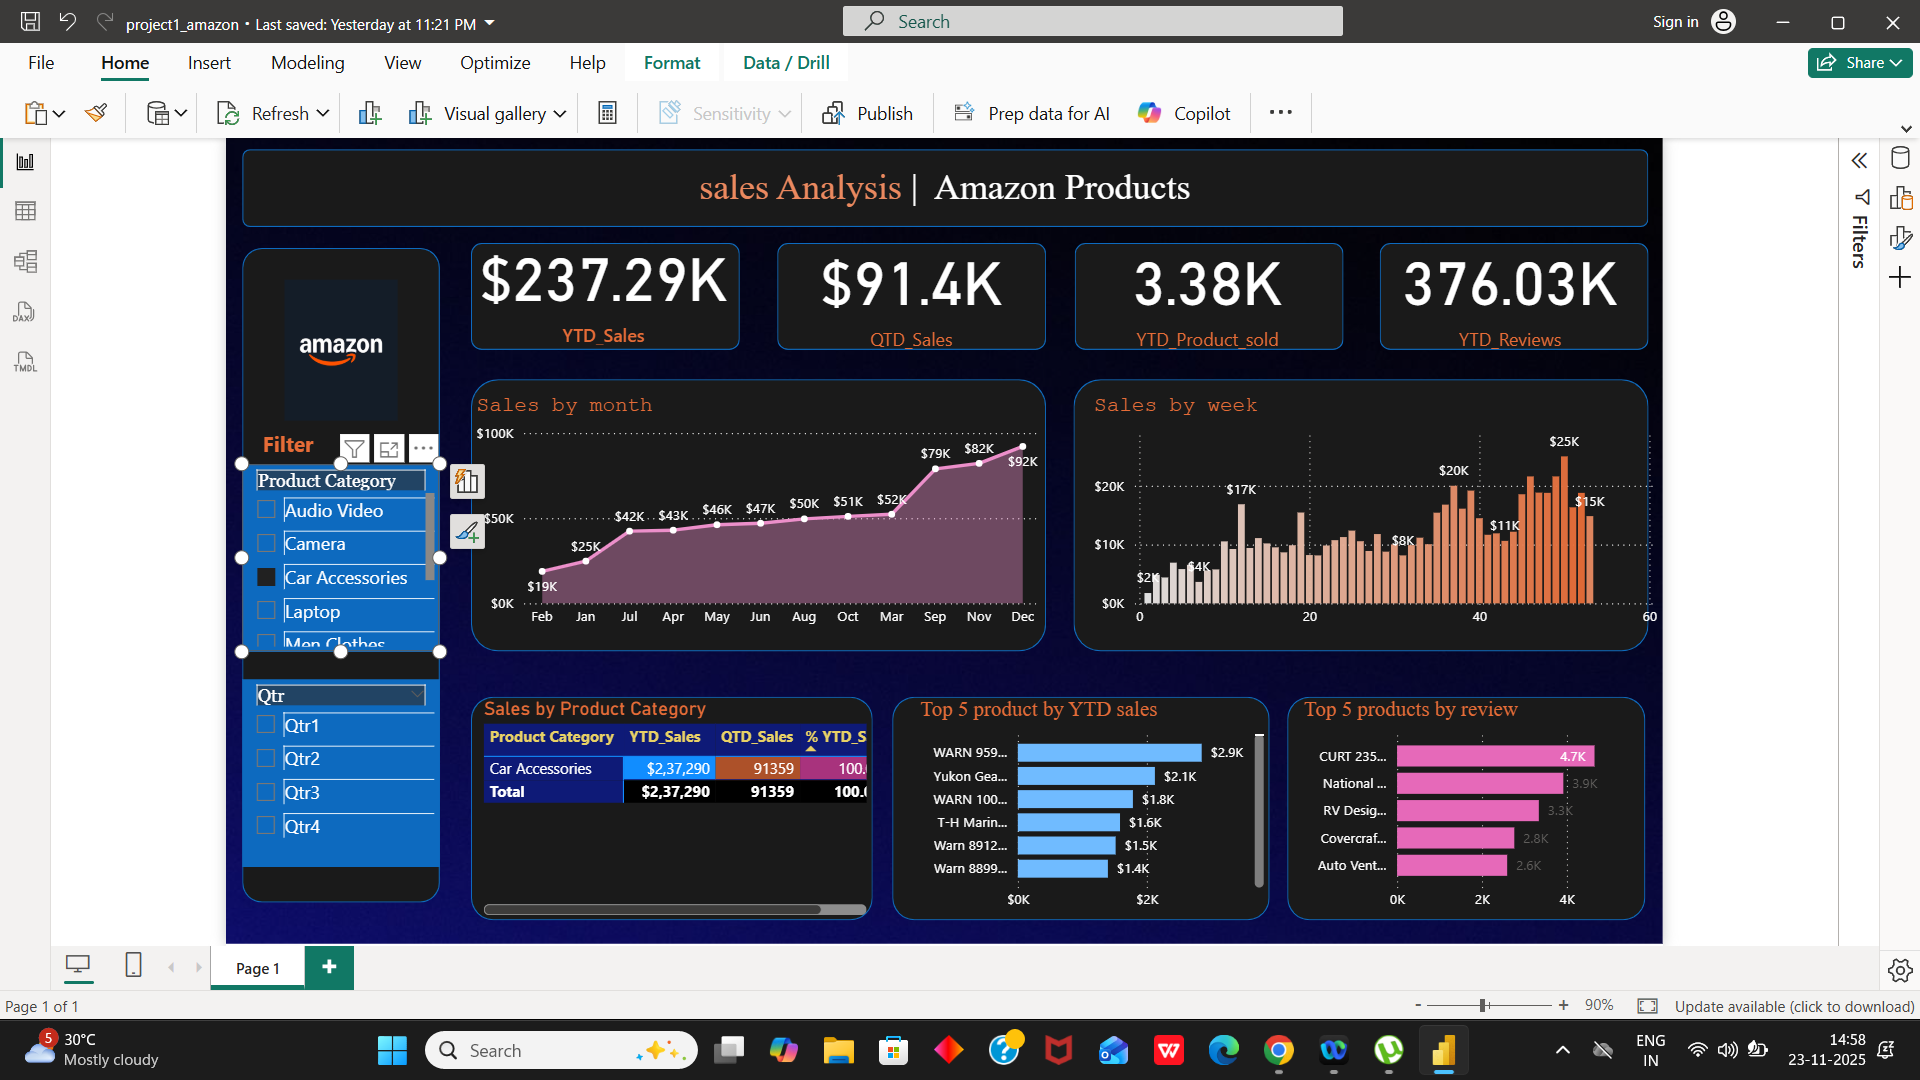

What the dashboard file says about the page in this screenshot:
{"tool":"powerbi","page":{"name":"Page 1","canvas":[1280,720],"ordinal":0},"visuals":[{"type":"shape","box":[14.4,10.1,1252.3,69.3],"z":0},{"type":"textbox","box":[203.4,20.2,872.9,50.5],"z":1000},{"type":"shape","box":[14.4,98.1,176,582.9],"z":2000},{"type":"shape","box":[217.9,93.8,239.5,95.2],"z":3000},{"type":"cardVisual","fields":{"Data":["Amazon_Data.YTD_Sales"]},"box":[203.4,77.9,265.5,111.1],"z":4000},{"type":"shape","box":[1027.2,93.8,239.5,95.2],"z":5000},{"type":"shape","box":[756,93.8,239.5,95.2],"z":6000},{"type":"shape","box":[490.5,93.8,239.5,95.2],"z":7000},{"type":"cardVisual","fields":{"Data":["Amazon_Data.QTD_Sales"]},"box":[490.5,80.8,239.5,121.2],"z":8000},{"type":"cardVisual","fields":{"Data":["Amazon_Data.YTD_Product_sold"]},"box":[754.6,80.8,239.5,115.4],"z":9000},{"type":"cardVisual","fields":{"Data":["Amazon_Data.YTD_Reviews"]},"box":[1024.4,80.8,239.5,121.2],"z":10000},{"type":"shape","box":[217.9,215,512.2,242.4],"z":11000},{"type":"areaChart","title":"Sales by month","fields":{"Y":["Sum(Amazon_Data.Price(Dollar))"],"Category":["date_table.month"]},"box":[217.9,228,512.2,216.4],"z":12000},{"type":"shape","box":[754.6,215,512.2,242.4],"z":13000},{"type":"columnChart","title":"Sales by week","fields":{"Category":["date_table.week num"],"Y":["Sum(Amazon_Data.Price(Dollar))"]},"box":[767.5,228,512.2,216.4],"z":14000},{"type":"shape","box":[217.9,497.8,357.8,199.1],"z":15000},{"type":"pivotTable","title":"Sales by Product Category","fields":{"Rows":["Amazon_Data.Product Category"],"Values":["Amazon_Data.YTD_Sales","Amazon_Data.QTD_Sales","Divide(Amazon_Data.YTD_Sales, ScopedEval(Amazon_Data.YTD_Sales, [Role.Columns]))"]},"box":[225.1,497.8,350.6,199.1],"z":16000},{"type":"shape","box":[593,497.8,336.2,199.1],"z":17000},{"type":"clusteredBarChart","title":"Top 5 product by YTD sales","fields":{"Category":["Amazon_Data.Product Description"],"Y":["Amazon_Data.YTD_Sales"]},"box":[613.2,497.8,316,199.1],"z":18000},{"type":"shape","box":[945,497.8,318.9,199.1],"z":19000},{"type":"clusteredBarChart","title":"Top 5 products by review","fields":{"Category":["Amazon_Data.Product Description"],"Y":["Amazon_Data.YTD_Reviews"]},"box":[955.1,497.8,300.1,199.1],"z":20000},{"type":"slicer","title":"Product Category","fields":{"Values":["Amazon_Data.Product Category"]},"box":[14.4,290,176,167.4],"z":21000},{"type":"slicer","title":"Product Category","fields":{"Values":["date_table.Qtr"]},"box":[14.4,481.9,176,167.4],"z":22000},{"type":"image","box":[14.4,121.2,176,135.6],"z":23000},{"type":"textbox","box":[27.4,255.4,75,34.6],"z":24000}]}

Visuals, with their boxes on the page's 1280x720 design canvas (x1, y1, x2, y2). These are canvas units, not pixel positions in the 1920x1080 screenshot, which may show the page scaled, cropped or inside an application window:
shape: select_region(14, 10, 1267, 79)
textbox: select_region(203, 20, 1076, 71)
shape: select_region(14, 98, 190, 681)
shape: select_region(218, 94, 457, 189)
cardVisual - Amazon_Data.YTD_Sales: select_region(203, 78, 469, 189)
shape: select_region(1027, 94, 1267, 189)
shape: select_region(756, 94, 996, 189)
shape: select_region(490, 94, 730, 189)
cardVisual - Amazon_Data.QTD_Sales: select_region(490, 81, 730, 202)
cardVisual - Amazon_Data.YTD_Product_sold: select_region(755, 81, 994, 196)
cardVisual - Amazon_Data.YTD_Reviews: select_region(1024, 81, 1264, 202)
shape: select_region(218, 215, 730, 457)
"Sales by month" areaChart: select_region(218, 228, 730, 444)
shape: select_region(755, 215, 1267, 457)
"Sales by week" columnChart: select_region(768, 228, 1280, 444)
shape: select_region(218, 498, 576, 697)
"Sales by Product Category" pivotTable: select_region(225, 498, 576, 697)
shape: select_region(593, 498, 929, 697)
"Top 5 product by YTD sales" clusteredBarChart: select_region(613, 498, 929, 697)
shape: select_region(945, 498, 1264, 697)
"Top 5 products by review" clusteredBarChart: select_region(955, 498, 1255, 697)
"Product Category" slicer: select_region(14, 290, 190, 457)
"Product Category" slicer: select_region(14, 482, 190, 649)
image: select_region(14, 121, 190, 257)
textbox: select_region(27, 255, 102, 290)
